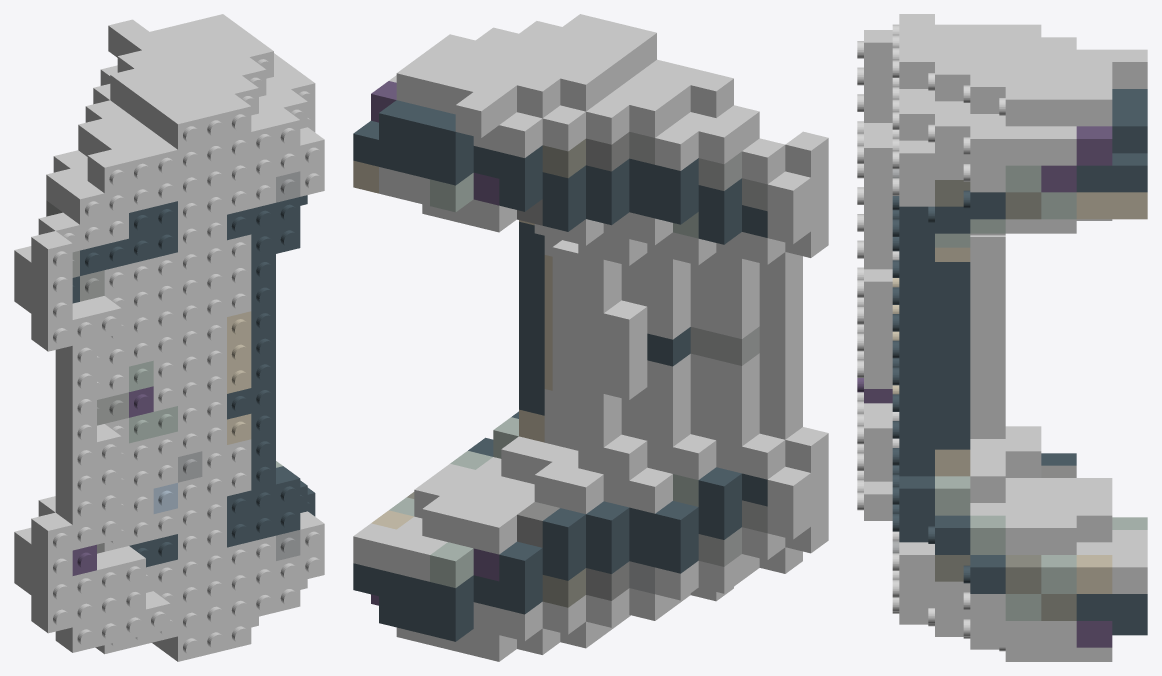
File: full.glb
3 views of the same model, side by side, from view 1: azimuth 30°, elevation 25°; view 2: azimuth 150°, elevation 25°; view 3: azimuth 270°, elevation 25° (orthographic). The views are drawn at different scales.
Parts seen in each view (by area): view 1: world; view 2: world; view 3: world.
Part boxes in pixels (x1,y1,x2,y2): world: [14, 14, 324, 661]; world: [353, 14, 828, 661]; world: [857, 14, 1147, 661].
Size of the model in its own units: 104 by 168 by 78.6.
